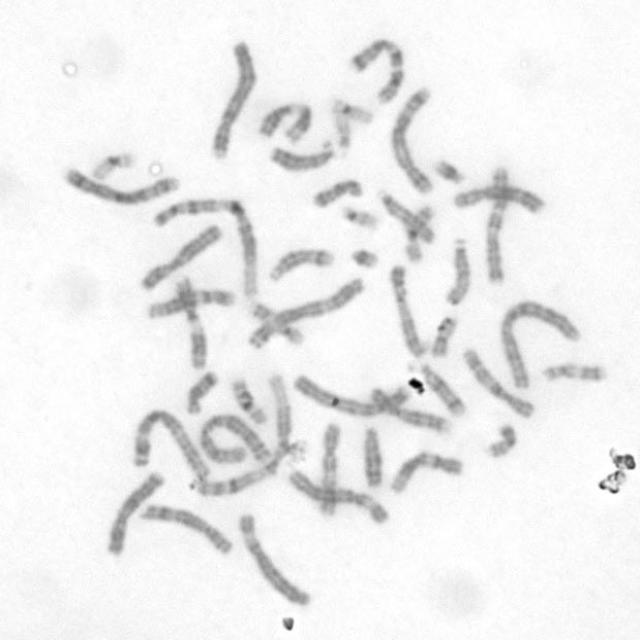A1: (191, 372, 291, 497), (150, 196, 259, 298)
A2: (498, 298, 583, 391), (198, 412, 275, 465)
A3: (242, 277, 364, 351), (129, 408, 210, 480)
B4: (288, 367, 411, 419), (208, 39, 259, 162)
B5: (62, 164, 181, 207), (390, 88, 434, 196)
C10: (460, 348, 539, 421), (316, 420, 342, 520)
C11: (170, 275, 208, 370), (258, 99, 312, 147)
C12: (385, 452, 464, 495), (146, 289, 237, 320)
C6: (237, 507, 312, 608), (284, 466, 390, 525)
C7: (348, 35, 407, 107), (483, 161, 511, 290)
C8: (140, 501, 236, 558), (451, 185, 546, 215)
C9: (369, 384, 454, 434), (389, 259, 428, 358)
D13: (268, 137, 335, 174), (362, 422, 384, 489)
D14: (404, 359, 468, 418), (265, 245, 334, 285)
D15: (373, 186, 438, 246), (440, 236, 472, 308)
E16: (402, 202, 435, 266), (229, 373, 268, 426)
E17: (247, 298, 306, 347), (541, 358, 606, 386)
E18: (310, 177, 365, 210), (185, 367, 217, 415)
F19: (89, 150, 133, 181), (329, 96, 377, 124)
F20: (429, 313, 458, 357), (486, 423, 519, 460)
G21: (346, 242, 379, 272), (432, 157, 465, 186)
G22: (338, 202, 382, 235), (334, 111, 353, 157)
X: (138, 222, 225, 291), (104, 468, 166, 558)
